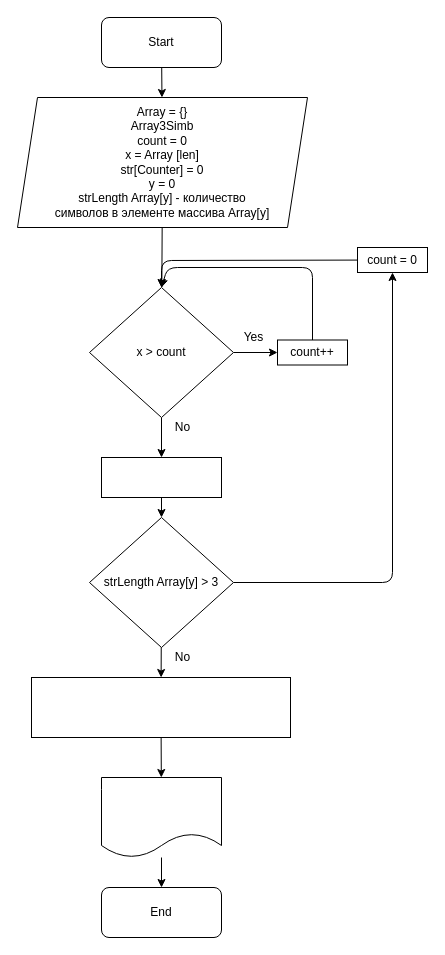
This 445x955 diagram has some shape labels left out. Here are the shapes that lost their labels. From the top down, the box of each, then its label:
(100, 456, 222, 498): y = count
(30, 676, 290, 738): strLength Array[y] (push) -> Array3Simb
(100, 776, 222, 858): Array3Simb
